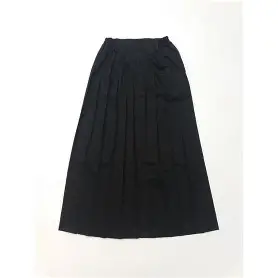rok_benar: (54, 36, 224, 235)
